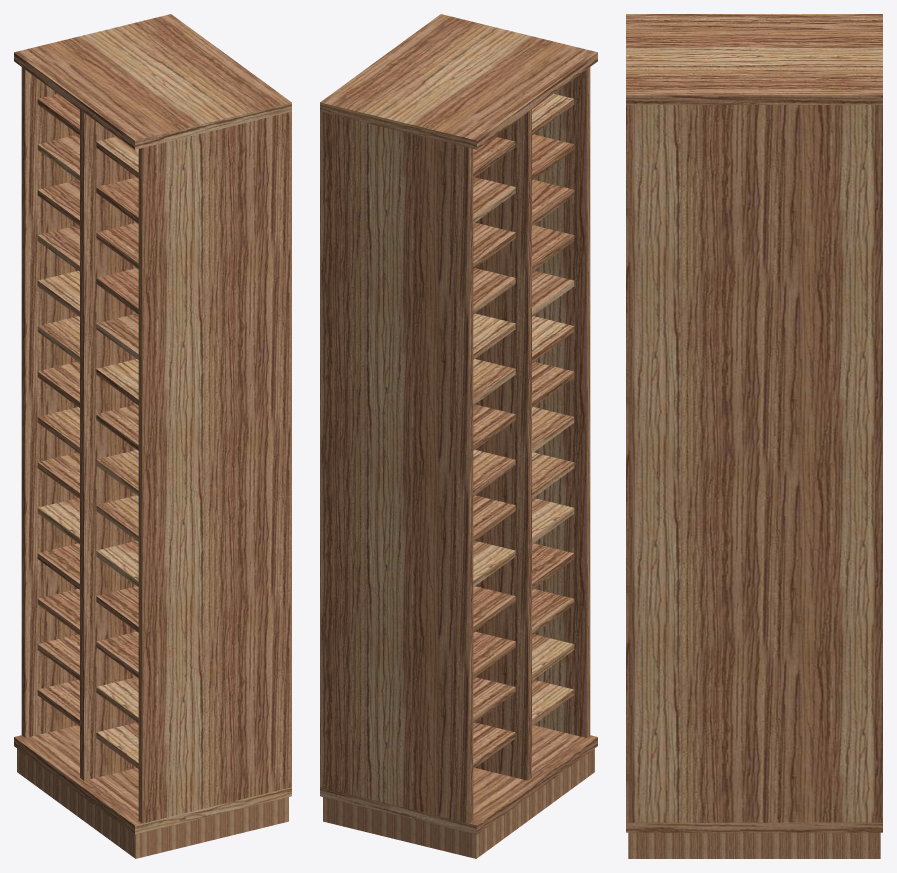
Rendered from baseline_5OH_45x60_compartments_finala.fbx.
3 views of the same model, side by side, from view 1: azimuth 30°, elevation 25°; view 2: azimuth 150°, elevation 25°; view 3: azimuth 270°, elevation 25° (orthographic). The views are drawn at different scales.
Parts seen in each view (by area): view 1: drewno_mesh, drewno2_mesh, metal_mesh; view 2: drewno_mesh, drewno2_mesh, metal_mesh; view 3: drewno_mesh, metal_mesh.
Boxes of the visible parts, x1,y1,x2,y2 form: drewno_mesh: [14, 14, 291, 834]; drewno2_mesh: [37, 94, 138, 768]; metal_mesh: [17, 748, 288, 858]; drewno_mesh: [320, 14, 597, 834]; drewno2_mesh: [473, 94, 574, 768]; metal_mesh: [323, 748, 594, 858]; drewno_mesh: [626, 14, 882, 832]; metal_mesh: [628, 832, 880, 858].
Bounding box in the file's own units: 45 × 197 × 60.
